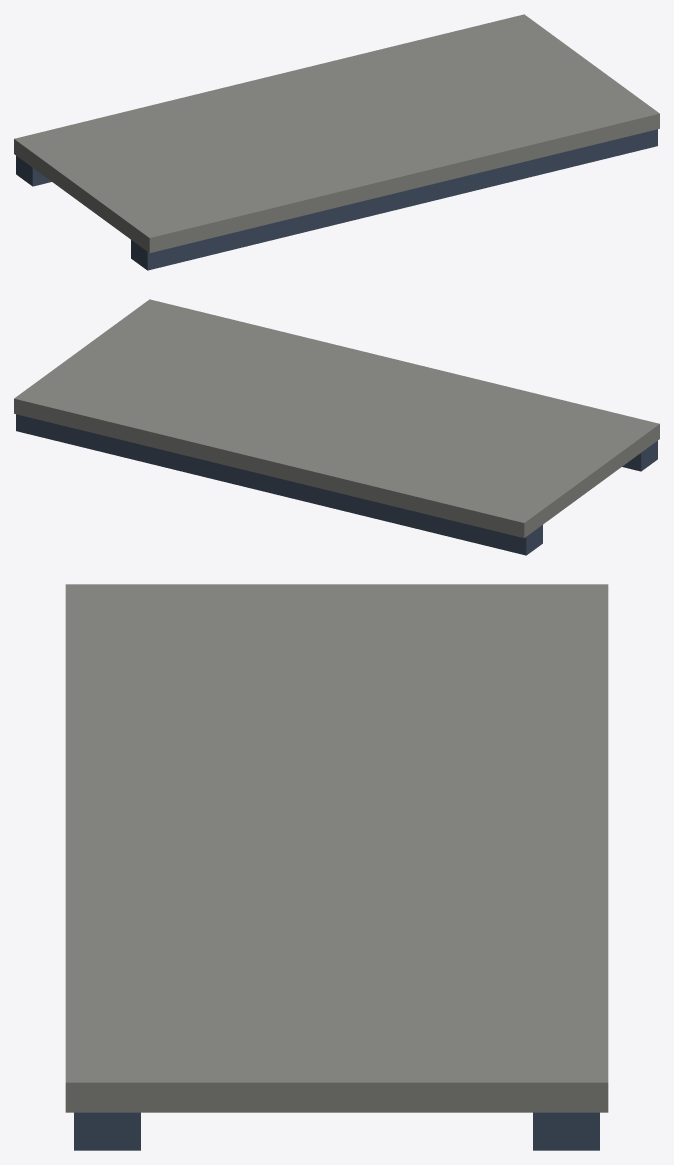
Rendered from ko300_skid.obj.
3 renders of one model, top to bottom at view 1: azimuth 30°, elevation 25°; view 2: azimuth 150°, elevation 25°; view 3: azimuth 270°, elevation 25°, orthographic. The views are drawn at different scales.
Visible parts, largest first — view 1: ko300_skid; view 2: ko300_skid; view 3: ko300_skid.
Part boxes in pixels (x1=…): ko300_skid: x1=14, y1=14, x2=659, y2=270; ko300_skid: x1=14, y1=299, x2=659, y2=555; ko300_skid: x1=65, y1=584, x2=608, y2=1150.
Bounding box in the file's own units: 2.82 × 0.18 × 1.3.
